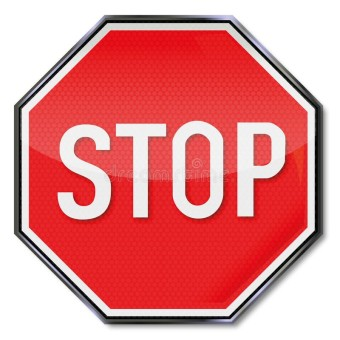SS: (15, 19, 323, 328)
